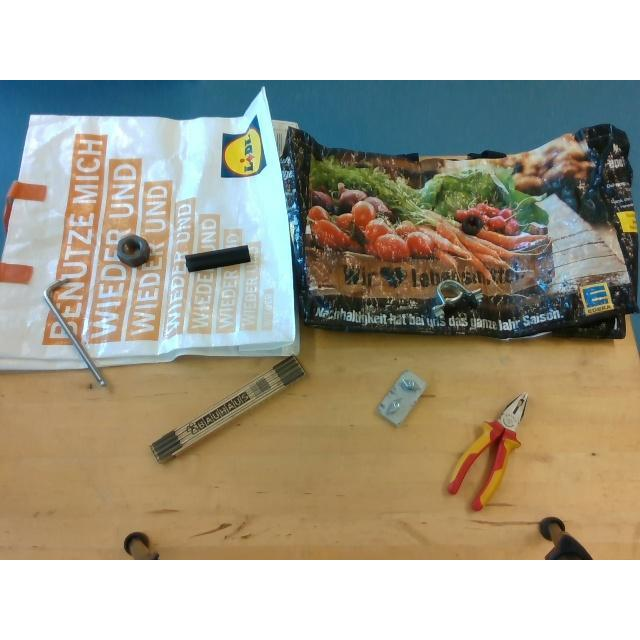AllenKey: (44, 276, 108, 388)
F20_20_B: (184, 244, 252, 272)
Housing: (433, 278, 482, 320)
M20: (461, 214, 483, 233)
M30: (118, 234, 150, 266)
